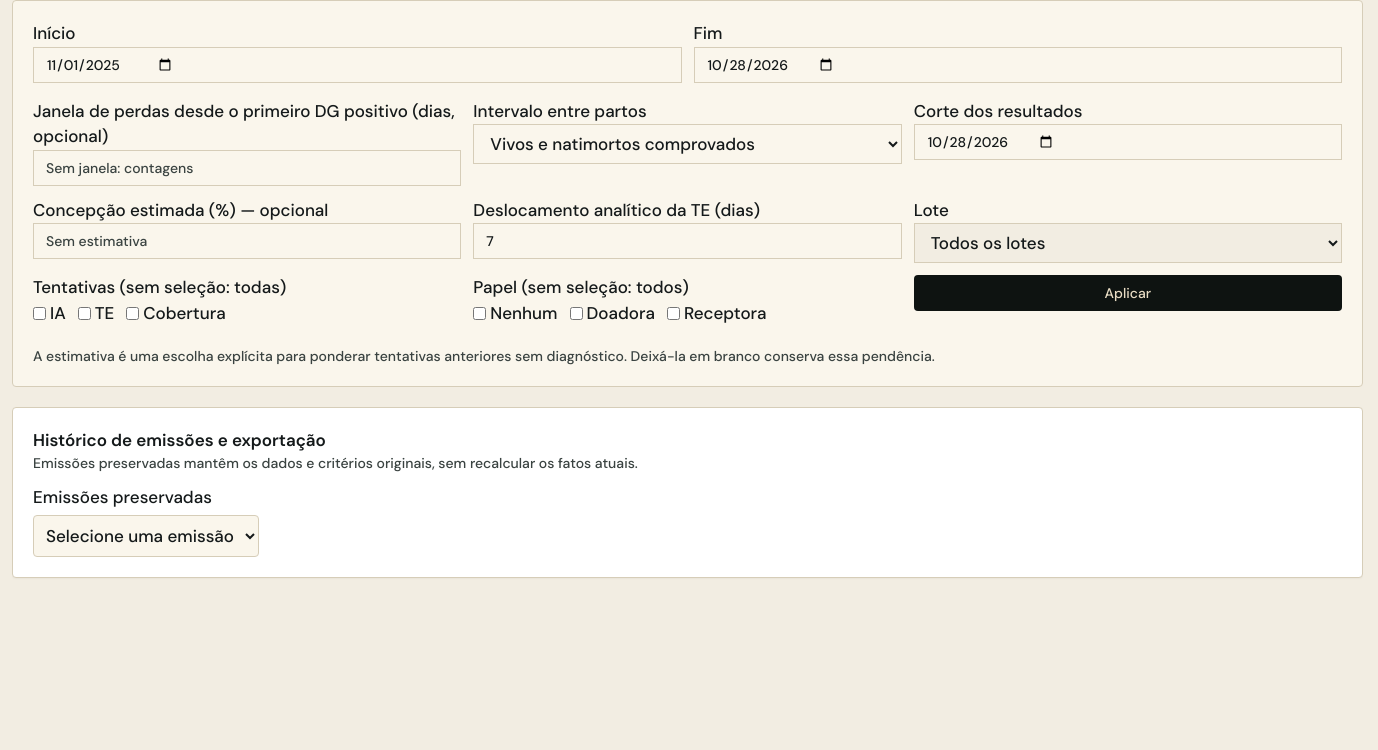
Test: retry de abertura repete a mesma emissão e não consulta fatos atuais
The image size is (1378, 750).
Select "23/09/2026, 12:00:00" in the dropdown labelled "Emissões preservadas" at (146, 536), box [33,514,259,556]
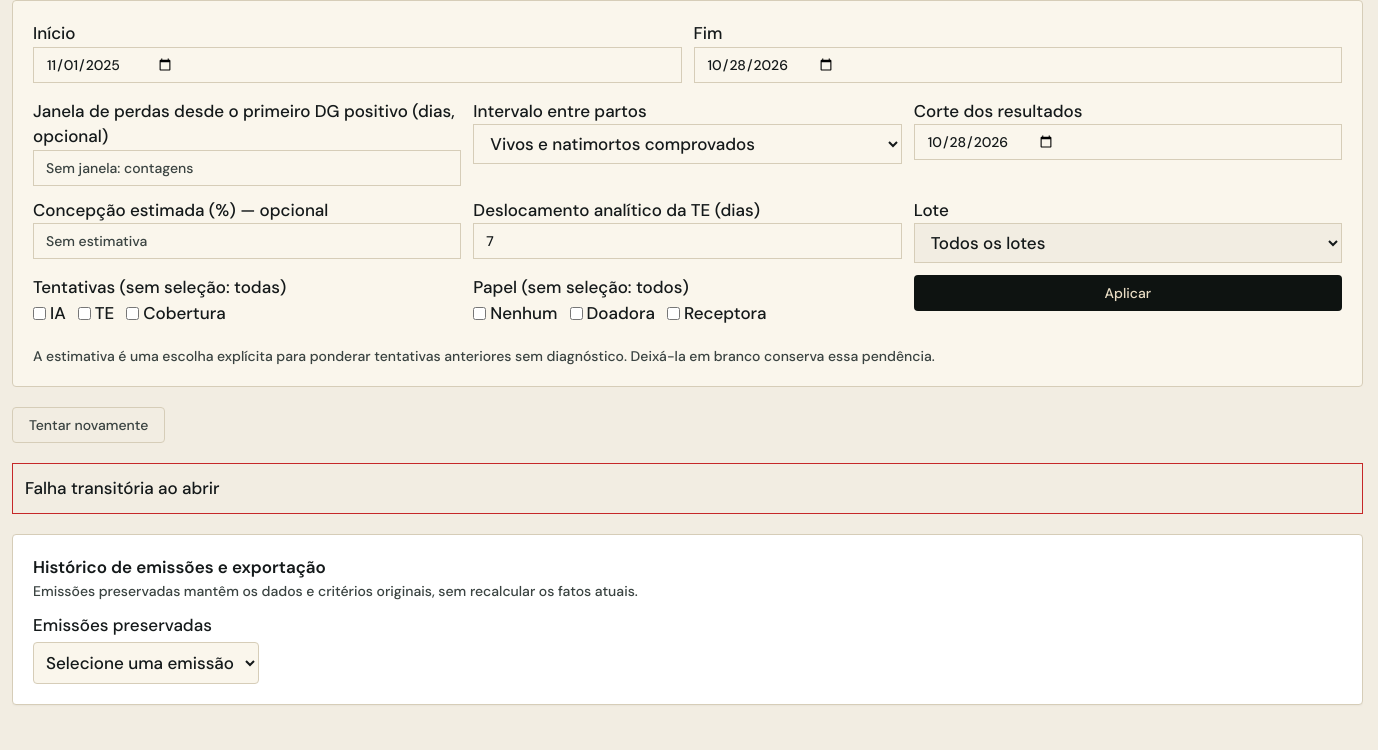
Now the message "Falha transitória ao abrir" is shown, box [12,462,1363,514]
Click the button "Tentar novamente" at (89, 424), box [12,406,165,442]
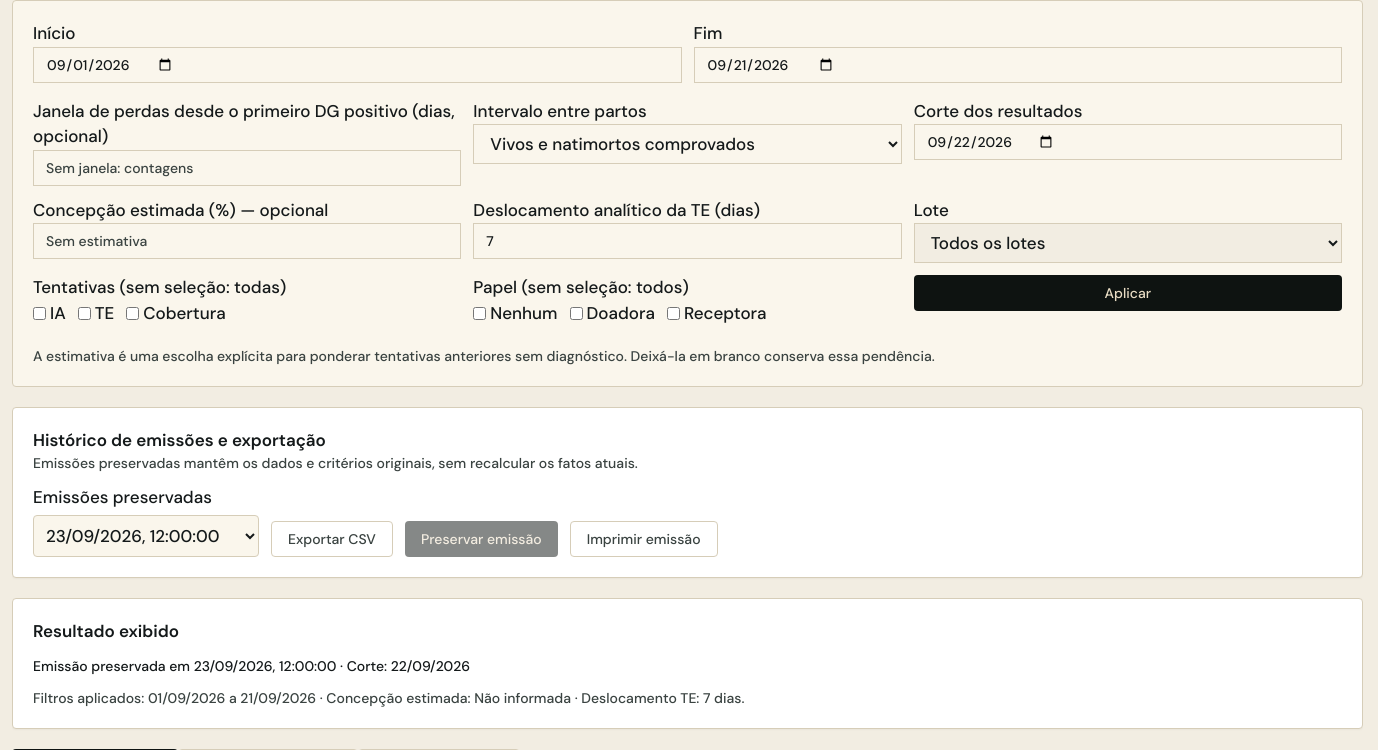
Now the text "Emissão preservada em" is shown, box [33,657,336,675]
